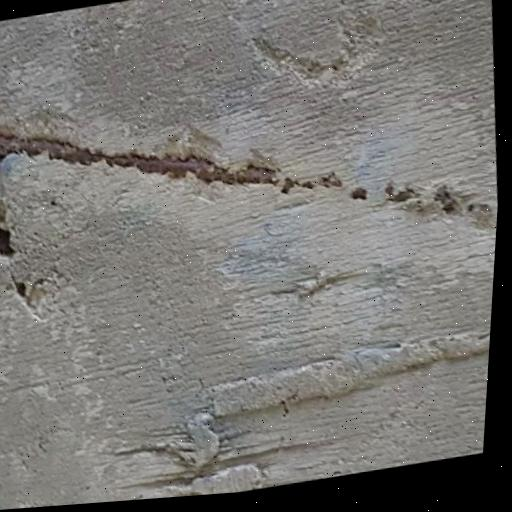exposed_rebar: (0, 133, 280, 185), (0, 133, 279, 184), (281, 173, 342, 193), (434, 186, 460, 213), (385, 183, 420, 202), (351, 187, 367, 199)
